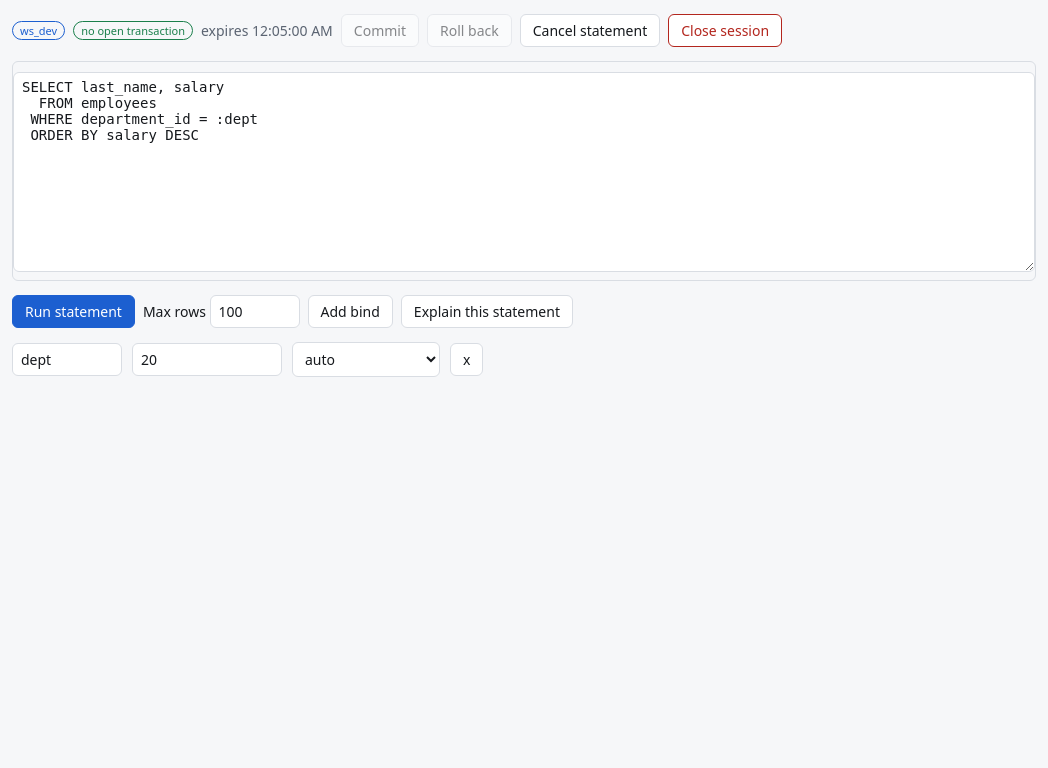
Scenario: acting on a session › drops a session the server retired while the statement was running
Expected: the text "ws_dev" is shown, [12,21,65,40]
Click the button "Run statement": point(73, 312) [12,295,135,328]
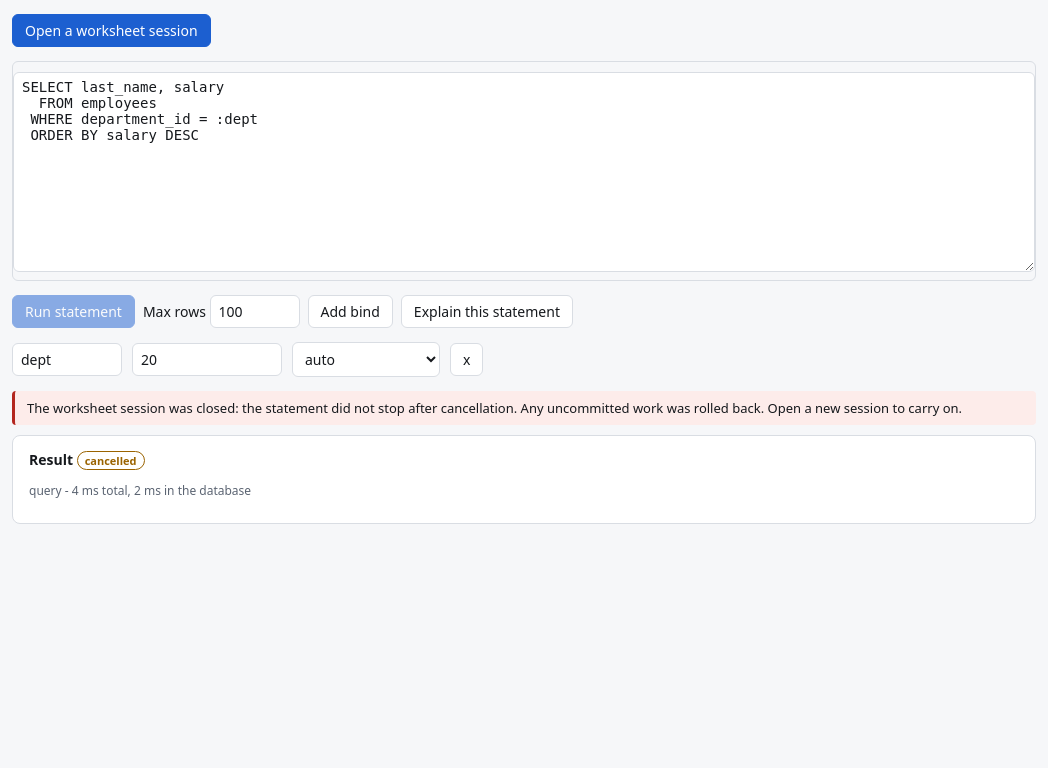
Expected: the heading "Result cancelled" is shown, [29,450,144,470]
Expected: the text "ws_dev" is gone
Expected: the text "did not stop after cancellation" is shown, [27,399,962,417]
